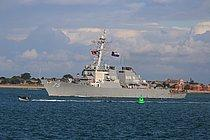MIL_Ship: (37, 28, 190, 100)
